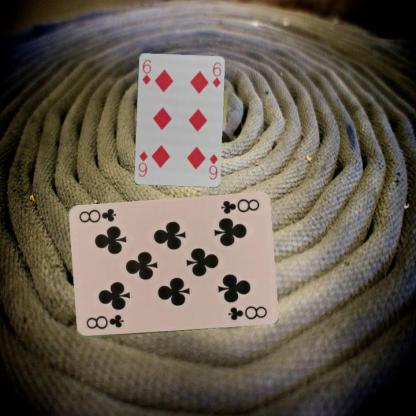6d: (206, 151, 219, 181), (139, 57, 152, 86)
8c: (218, 197, 260, 216), (83, 312, 125, 330)
